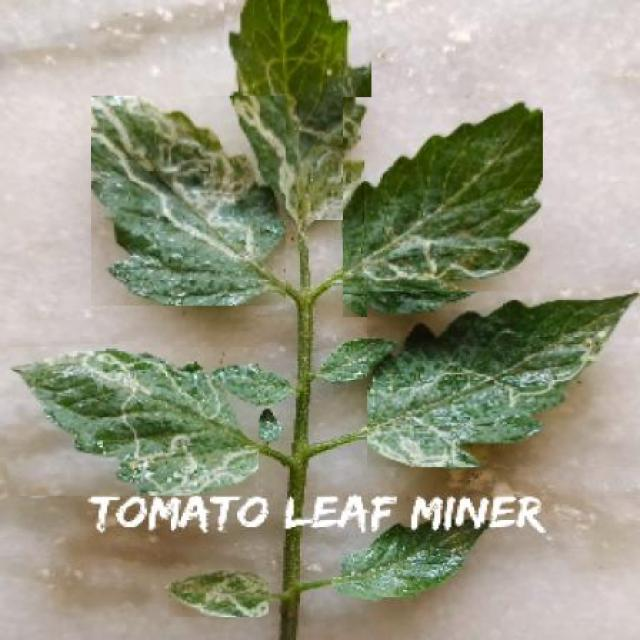Leaf Miner: (368, 292, 639, 467), (343, 97, 543, 317), (90, 96, 286, 306), (7, 347, 259, 496), (225, 0, 372, 220), (168, 569, 269, 618)
